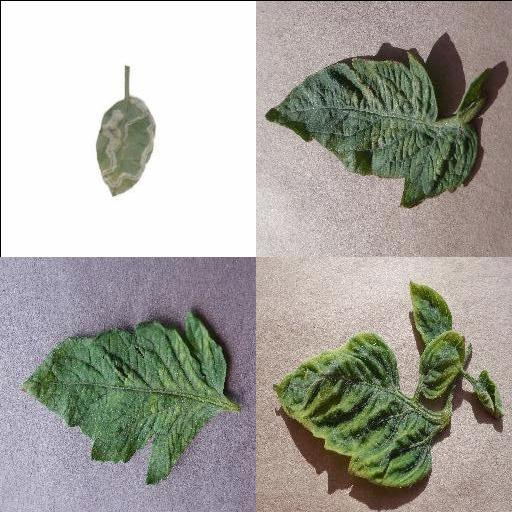Leaf Miner: (95, 95, 153, 196)
Mosaic Virus: (19, 310, 225, 482)
Spider Mites: (263, 50, 481, 206)
Yellow Leaf Curl Virus: (274, 329, 432, 484), (415, 327, 469, 396)
